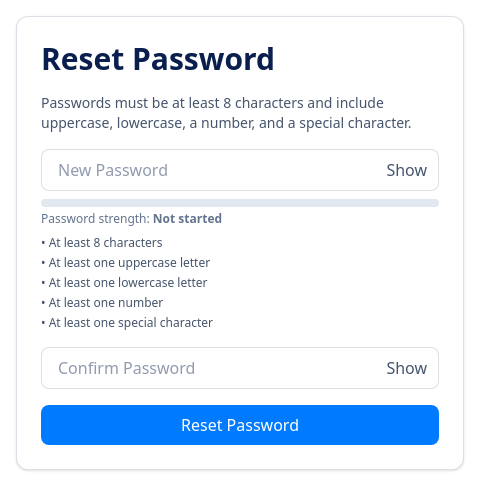
ResetPasswordPage › shows the password criteria and strength meter
Type "Password123!" into the password field with placeholder "New Password" at point(240, 170), box [41,149,439,191]
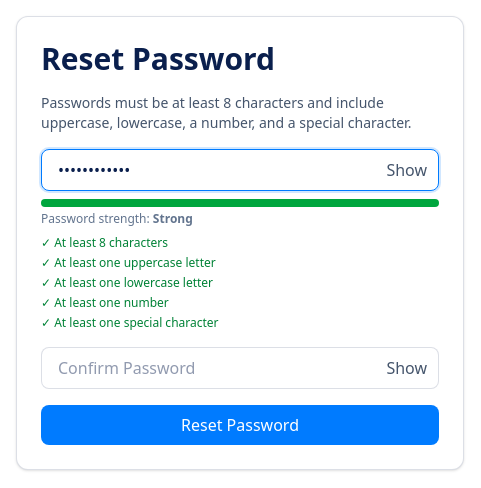
expect the text "Password strength: Strong" is shown: met, box [41,210,193,227]
expect the text "Strong" is shown: met, box [153,210,193,227]
